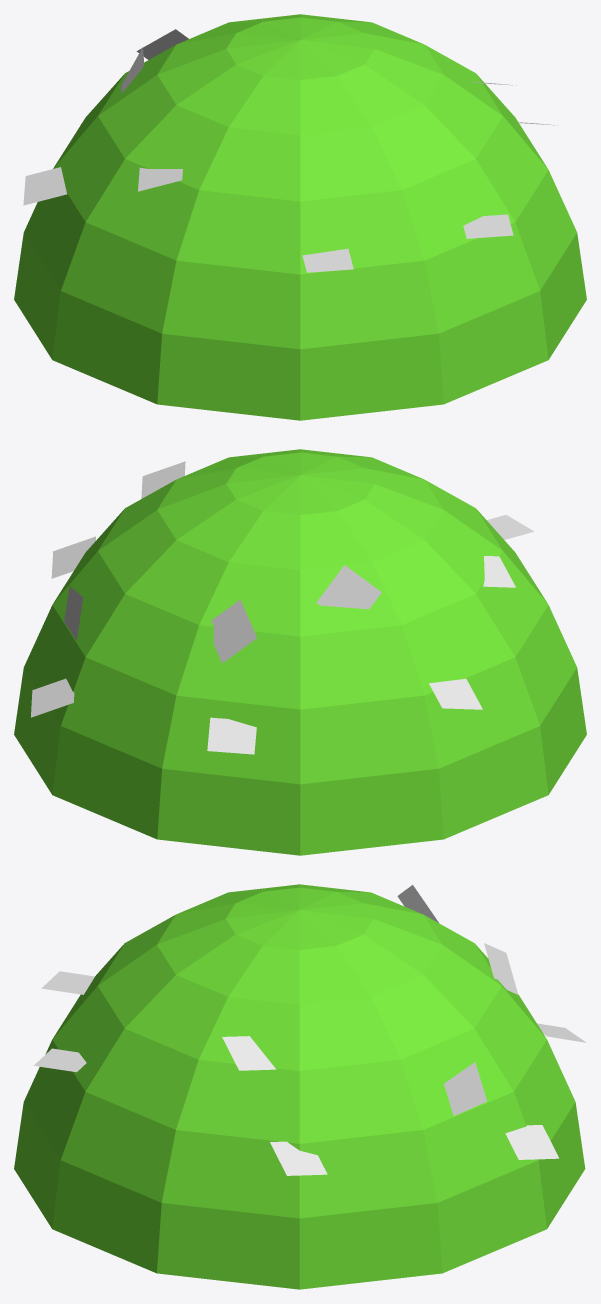
The model's file is F_Krzak.fbx.
3 views of the same model, one above another, from view 1: azimuth 30°, elevation 25°; view 2: azimuth 150°, elevation 25°; view 3: azimuth 270°, elevation 25° (orthographic).
Visible parts, largest first — view 1: Sphere; view 2: Sphere; view 3: Sphere.
Part boxes in pixels (box(x1,y1,x2,y2)): Sphere: box(14, 14, 586, 420); Sphere: box(14, 449, 586, 855); Sphere: box(14, 884, 586, 1289).
Size of the model in its own units: 80.9 by 40 by 80.23.
